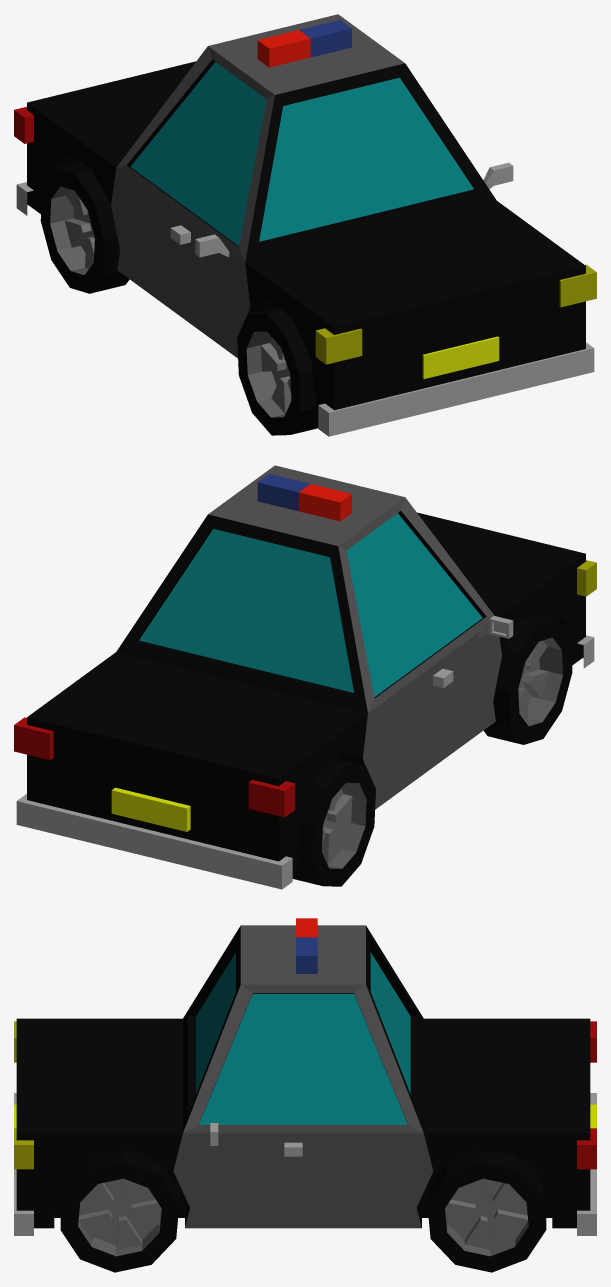
Rendered from PoliceCar.fbx.
3 views of the same model, one above another, from view 1: azimuth 30°, elevation 25°; view 2: azimuth 150°, elevation 25°; view 3: azimuth 270°, elevation 25° (orthographic). The views are drawn at different scales.
Visible parts, largest first — view 1: PoliceCar, R_Back_Wheel.003, R_Front_Wheel.003; view 2: PoliceCar, R_Front_Wheel.003, R_Back_Wheel.003; view 3: PoliceCar, L_Front_Wheel.003, L_Back_Wheel.003.
Part boxes in pixels (bbox=[...]): PoliceCar: bbox=[14, 14, 596, 436]; R_Back_Wheel.003: bbox=[40, 162, 129, 293]; R_Front_Wheel.003: bbox=[237, 306, 318, 435]; PoliceCar: bbox=[14, 465, 596, 889]; R_Front_Wheel.003: bbox=[483, 613, 572, 744]; R_Back_Wheel.003: bbox=[292, 758, 375, 886]; PoliceCar: bbox=[14, 918, 596, 1235]; L_Front_Wheel.003: bbox=[60, 1151, 179, 1272]; L_Back_Wheel.003: bbox=[427, 1151, 546, 1272].
Bounding box in the file's own units: 2.61 × 2.33 × 4.51.
